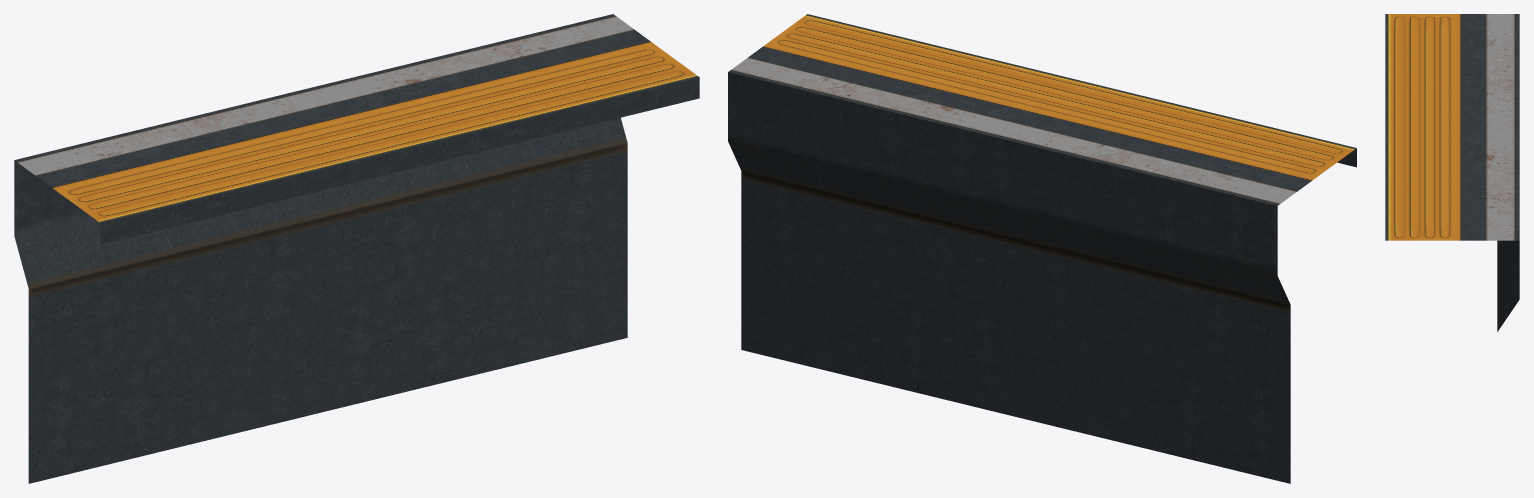
The model's file is SM_FloorBorderSmall.FBX.
The picture shows the model from 3 angles, left to right: view 1: azimuth 30°, elevation 25°; view 2: azimuth 150°, elevation 25°; view 3: azimuth 270°, elevation 25°; orthographic projection. The views are drawn at different scales.
Visible parts, largest first — view 1: SM_FloorBorderSmall; view 2: SM_FloorBorderSmall; view 3: SM_FloorBorderSmall.
Part boxes in pixels (x1,y1,x2,y2): SM_FloorBorderSmall: (14,14,699,483); SM_FloorBorderSmall: (728,14,1356,483); SM_FloorBorderSmall: (1385,14,1519,331).
Bounding box in the file's own units: 200 × 50 × 100.
